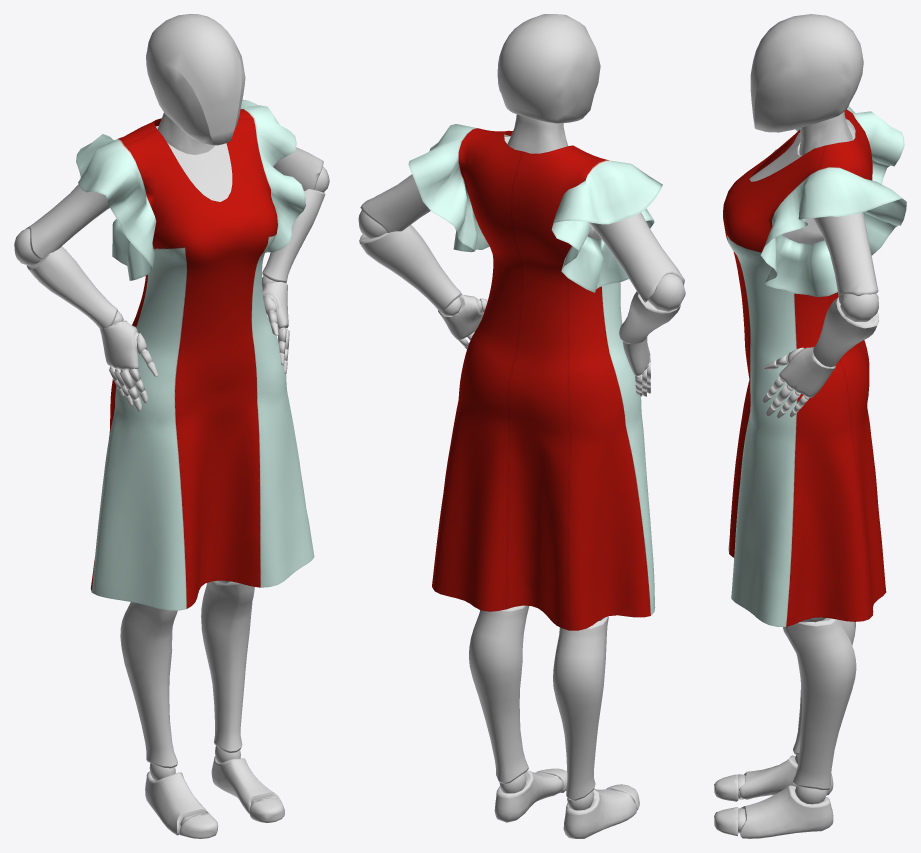
File: inter_elem.glb
3 views of the same model, side by side, from view 1: azimuth 30°, elevation 25°; view 2: azimuth 150°, elevation 25°; view 3: azimuth 270°, elevation 25° (orthographic). The views are drawn at different scales.
Visible parts, largest first — view 1: Pattern2D_15970.001_D1_0, Dummy_02 - Default.001_0; view 2: Pattern2D_15970.001_D1_0, Dummy_02 - Default.001_0; view 3: Pattern2D_15970.001_D1_0, Dummy_02 - Default.001_0.
Part boxes in pixels (x1=…): Pattern2D_15970.001_D1_0: x1=76, y1=99, x2=314, y2=610; Dummy_02 - Default.001_0: x1=14, y1=14, x2=329, y2=838; Pattern2D_15970.001_D1_0: x1=408, y1=124, x2=662, y2=630; Dummy_02 - Default.001_0: x1=358, y1=14, x2=685, y2=838; Pattern2D_15970.001_D1_0: x1=723, y1=106, x2=906, y2=626; Dummy_02 - Default.001_0: x1=714, y1=14, x2=878, y2=838.
Bounding box in the file's own units: 0.7263 × 1.75 × 0.3847.
2 materials, 1 textured.
